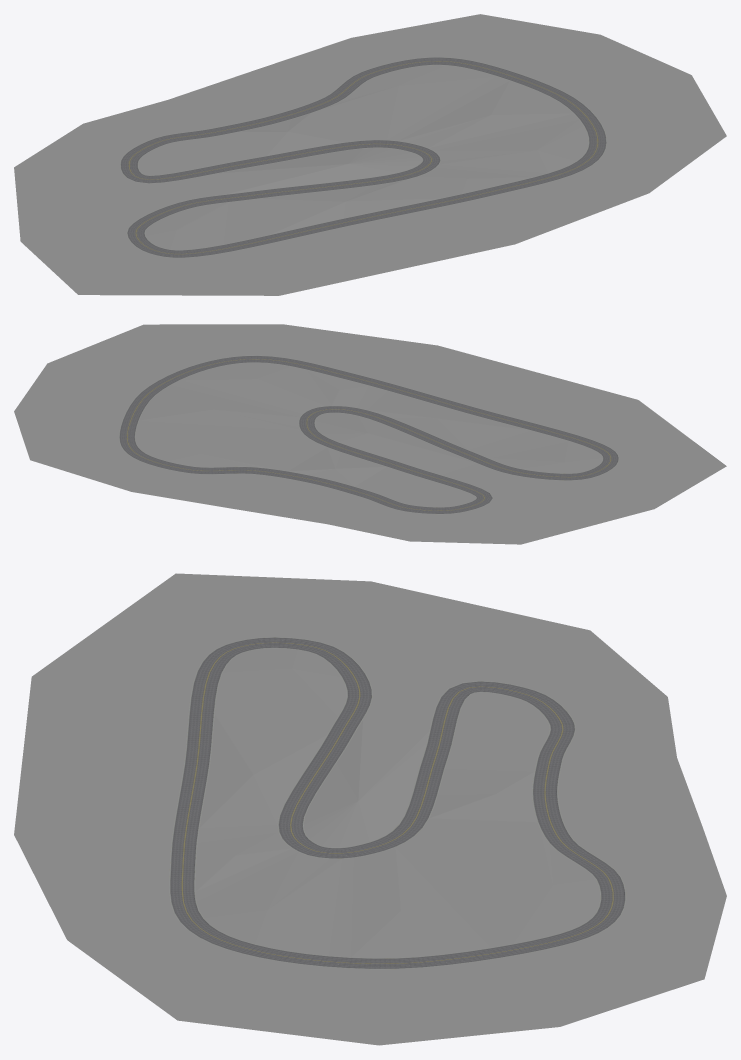
File: RoadCourse.FBX
The picture shows the model from 3 angles, top to bottom: view 1: azimuth 30°, elevation 25°; view 2: azimuth 150°, elevation 25°; view 3: azimuth 270°, elevation 25°; orthographic projection. The views are drawn at different scales.
Visible parts, largest first — view 1: Loft01; view 2: Loft01; view 3: Loft01.
Part boxes in pixels (x1=…): Loft01: x1=14, y1=14, x2=726, y2=295; Loft01: x1=14, y1=324, x2=726, y2=544; Loft01: x1=14, y1=573, x2=726, y2=1045.
Bounding box in the file's own units: 933 × 2.87 × 595.
